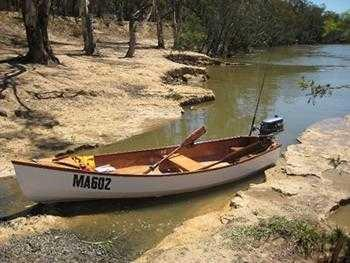kayak: (13, 127, 282, 204)
